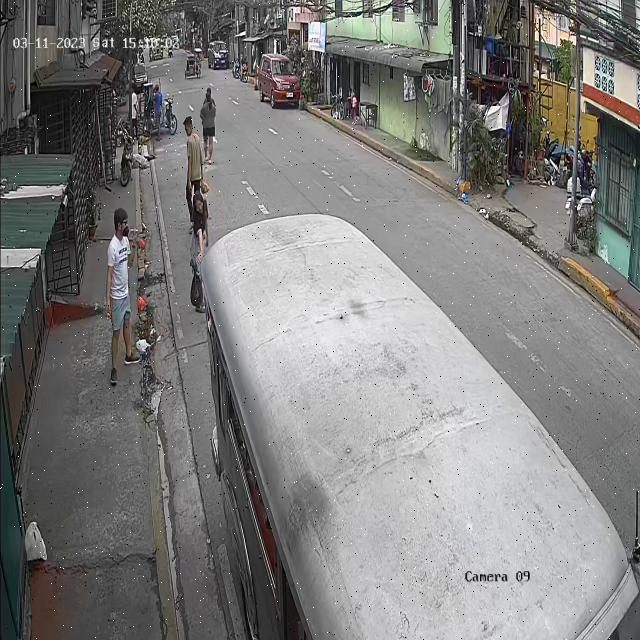garbage_dumping: (24, 520, 48, 568), (185, 263, 204, 310)
